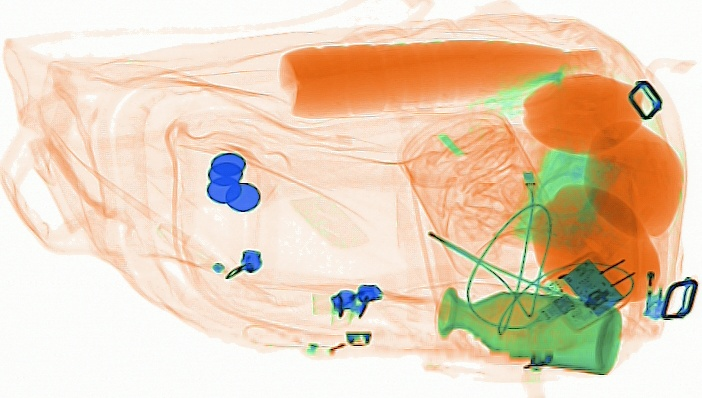lighter: (638, 224, 671, 320)
